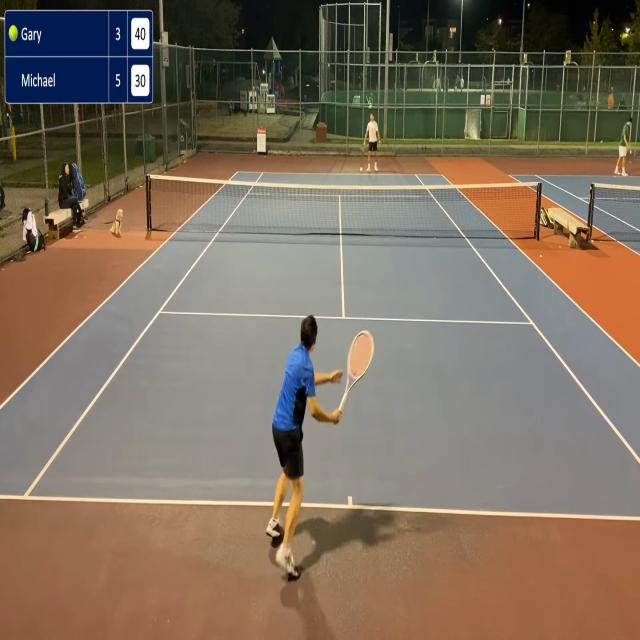ball: (360, 167, 363, 172)
